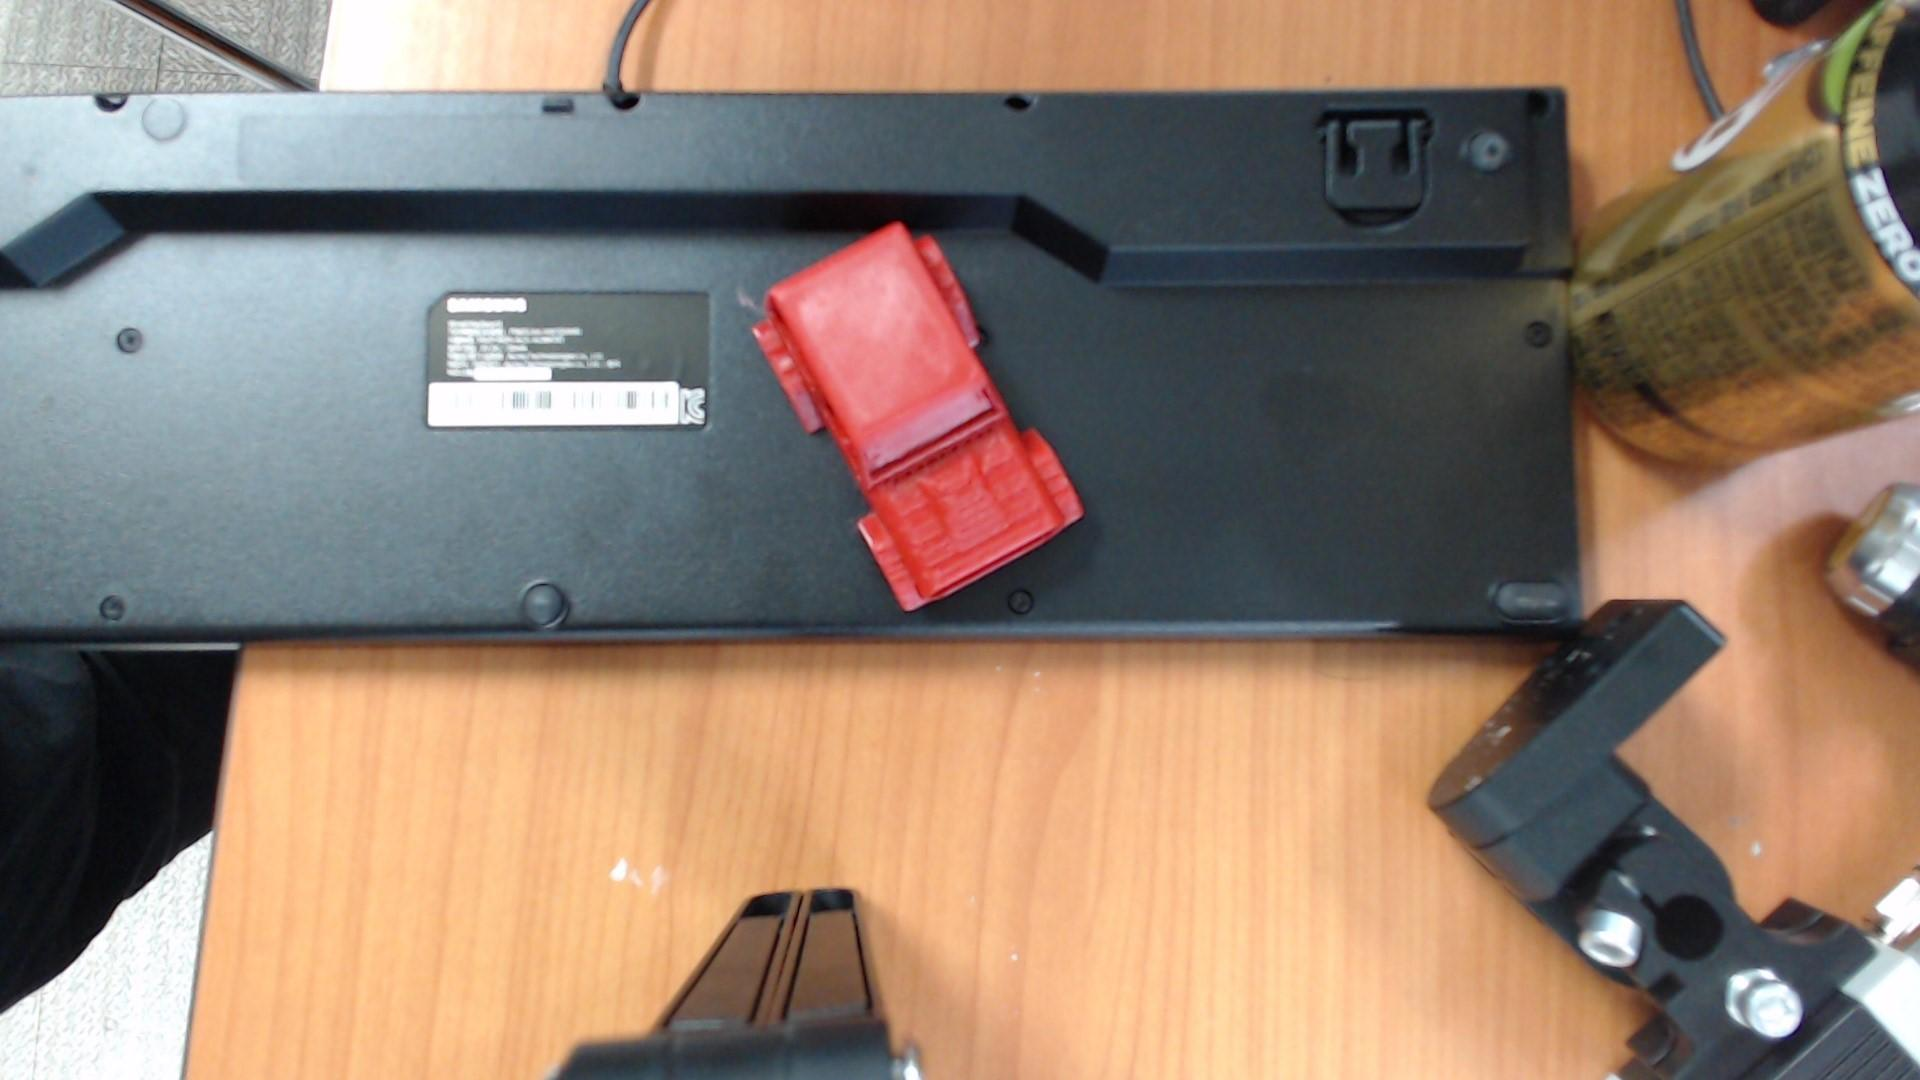Upper_ok: (753, 224, 1083, 610)
